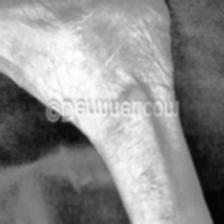Toxin: (143, 165, 163, 195), (118, 78, 139, 98)
